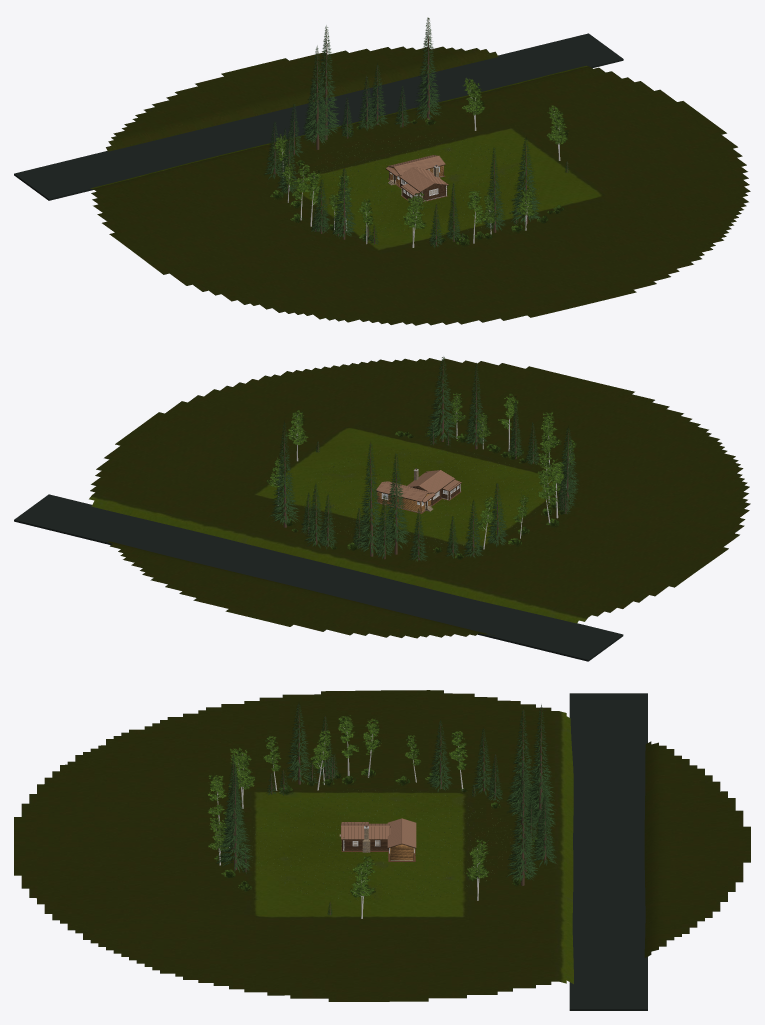
File: plan_one_story_608_classic.glb
3 renders of one model, top to bottom at view 1: azimuth 30°, elevation 25°; view 2: azimuth 150°, elevation 25°; view 3: azimuth 270°, elevation 25°, orthographic. The views are drawn at different scales.
Parts seen in each view (by area): view 1: Ground, River, P_Fir0_inst.073, P_Fir1_inst.067, P_Fir0_inst.075, P_Spruce1_inst.042, P_Spruce0_inst.046, P_Fir0_inst.042, P_Spruce2_inst.079, P_Birch1_inst.040, P_Spruce3_inst.061, EX_Roof_metal (+5 smaller); view 2: Ground, River, P_Fir0_inst.075, P_Fir0_inst.073, P_Spruce1_inst.042, P_Fir1_inst.067, P_Fir0_inst.042, P_Spruce0_inst.073, P_Spruce3_inst.061, P_Spruce0_inst.046, P_Spruce2_inst.079, P_Spruce2_inst.072 (+6 smaller); view 3: Ground, River, P_Fir0_inst.075, P_Fir0_inst.073, P_Spruce1_inst.042, P_Fir1_inst.067, P_Spruce0_inst.046, P_Spruce3_inst.061, P_Spruce2_inst.079, GrassTufts, EX_Roof_metal, P_Birch1_inst.040 (+6 smaller).
Boxes of the visible parts, <box> form: Ground: <box>90,46,750,325</box>; River: <box>14,33,623,200</box>; P_Fir0_inst.073: <box>414,17,442,120</box>; P_Fir1_inst.067: <box>302,45,331,149</box>; P_Fir0_inst.075: <box>312,25,342,139</box>; P_Spruce1_inst.042: <box>509,137,541,224</box>; P_Spruce0_inst.046: <box>332,167,355,239</box>; P_Fir0_inst.042: <box>482,147,506,232</box>; P_Spruce2_inst.079: <box>368,63,388,126</box>; P_Birch1_inst.040: <box>403,192,426,247</box>; P_Spruce3_inst.061: <box>277,130,298,194</box>; EX_Roof_metal: <box>399,167,448,191</box>; Ground: <box>89,358,750,638</box>; River: <box>14,494,623,661</box>; P_Fir0_inst.075: <box>355,442,383,556</box>; P_Fir0_inst.073: <box>269,421,299,527</box>; P_Spruce1_inst.042: <box>425,357,458,441</box>; P_Fir1_inst.067: <box>383,453,410,554</box>; P_Fir0_inst.042: <box>465,363,487,449</box>; P_Spruce0_inst.073: <box>374,494,394,559</box>; P_Spruce3_inst.061: <box>486,483,508,547</box>; P_Spruce0_inst.046: <box>557,426,579,498</box>; P_Spruce2_inst.079: <box>304,483,325,548</box>; P_Spruce2_inst.072: <box>463,500,483,558</box>; Ground: <box>14,690,750,1001</box>; River: <box>569,693,647,1010</box>; P_Fir0_inst.075: <box>525,704,555,832</box>; P_Fir0_inst.073: <box>506,765,539,885</box>; P_Spruce1_inst.042: <box>216,773,253,872</box>; P_Fir1_inst.067: <box>506,707,533,824</box>; P_Spruce0_inst.046: <box>286,703,311,784</box>; P_Spruce3_inst.061: <box>427,719,453,792</box>; P_Spruce2_inst.079: <box>533,795,556,867</box>; GrassTufts: <box>250,788,513,903</box>; EX_Roof_metal: <box>341,823,389,839</box>; P_Birch1_inst.040: <box>228,747,255,808</box>.
Bounding box in the file's own units: 154 × 32.12 × 152.
34 materials, 14 textured.
